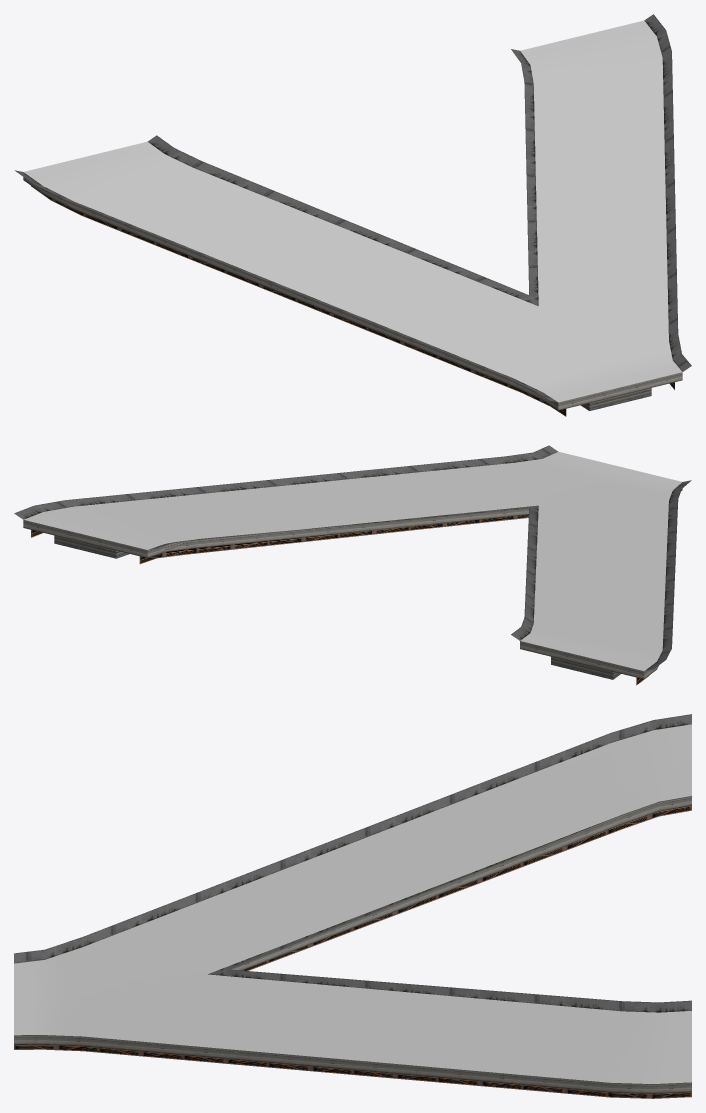
File: ForkDn.fbx
The picture shows the model from 3 angles, top to bottom: view 1: azimuth 30°, elevation 25°; view 2: azimuth 150°, elevation 25°; view 3: azimuth 270°, elevation 25°; orthographic projection. The views are drawn at different scales.
Parts seen in each view (by area): view 1: Empty_Mesh; view 2: Empty_Mesh; view 3: Empty_Mesh.
Boxes of the visible parts, x1,y1,x2,y2 form: Empty_Mesh: [14, 14, 691, 416]; Empty_Mesh: [14, 445, 691, 685]; Empty_Mesh: [14, 714, 691, 1098].
Size of the model in its own units: 82.4 by 12.5 by 64.
